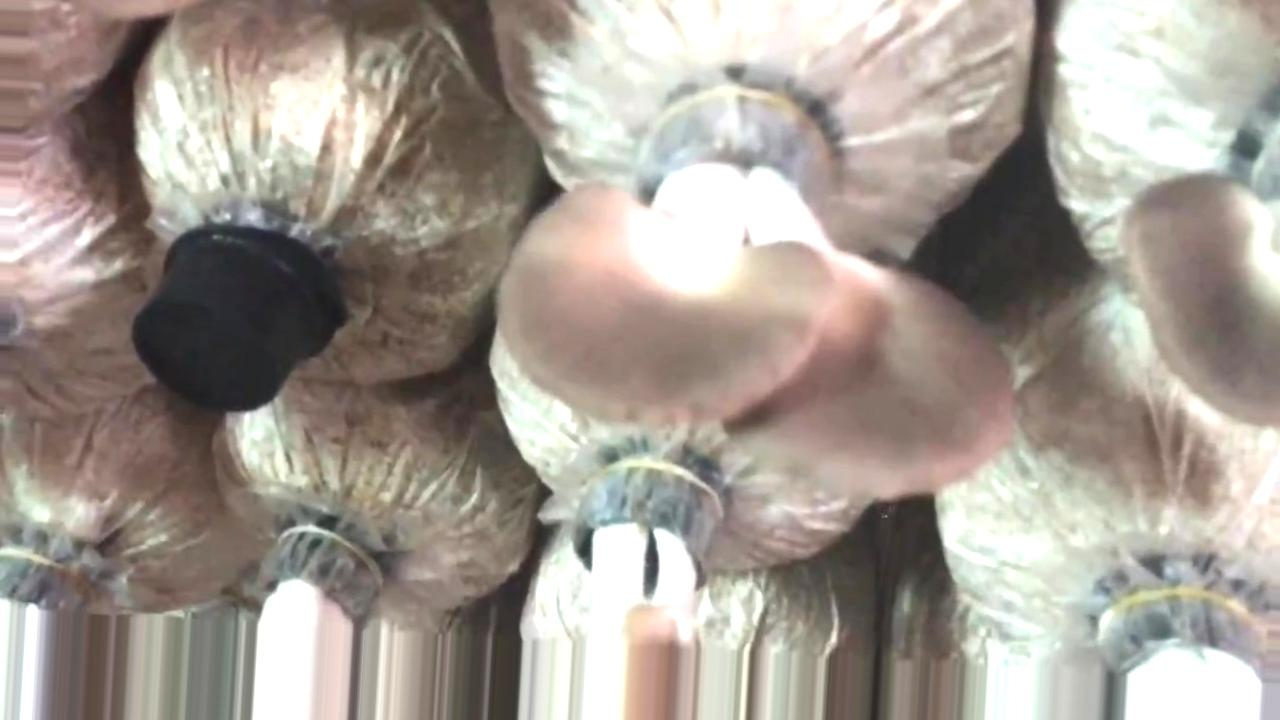nam: (493, 66, 1016, 509), (1125, 177, 1280, 425), (588, 477, 717, 646)
